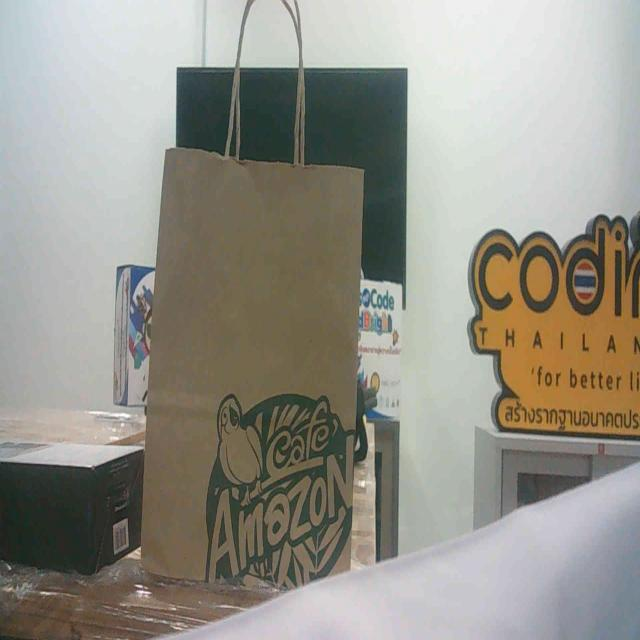bag: (144, 111, 375, 630)
